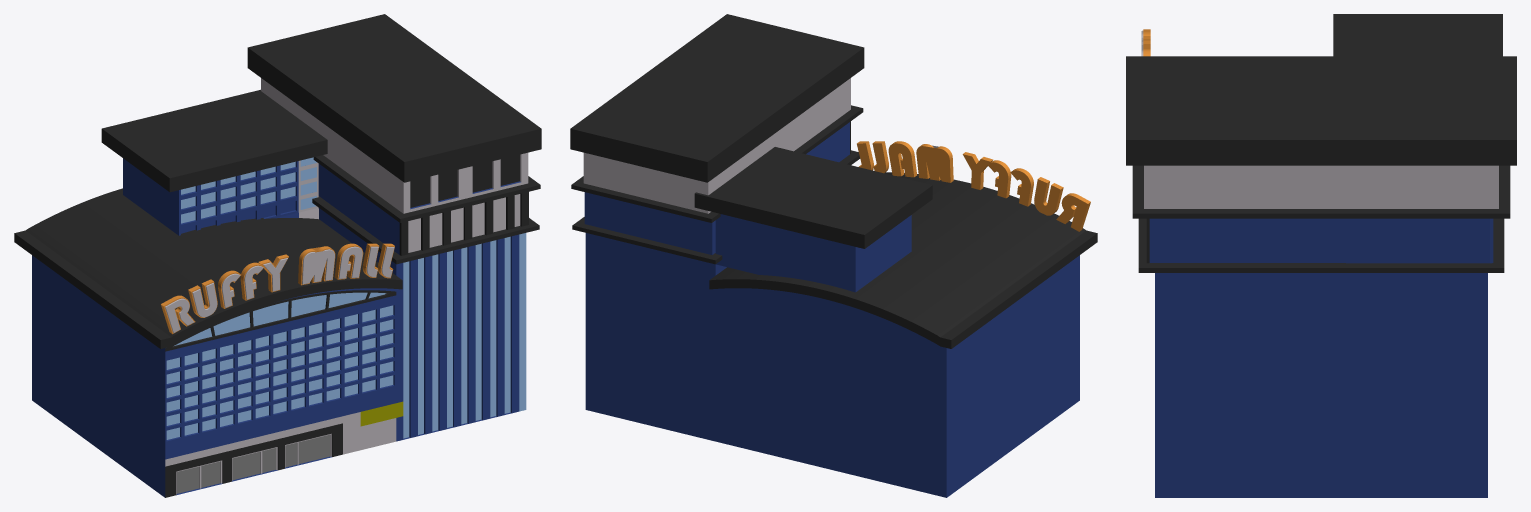
The model's file is mall.fbx.
3 renders of one model, left to right at view 1: azimuth 30°, elevation 25°; view 2: azimuth 150°, elevation 25°; view 3: azimuth 270°, elevation 25°, orthographic. The views are drawn at different scales.
Parts seen in each view (by area): view 1: Cube.001, Text; view 2: Cube.001, Text; view 3: Cube.001.
Boxes of the visible parts, x1,y1,x2,y2 form: Cube.001: [14, 14, 541, 497]; Text: [161, 243, 394, 334]; Cube.001: [570, 14, 1097, 497]; Text: [857, 141, 1090, 231]; Cube.001: [1126, 14, 1516, 497].
Bounding box in the file's own units: 343 × 250 × 245.
